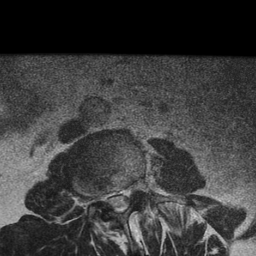CCS_stenosis: (114, 181, 122, 220)
LFS_normal: (130, 173, 138, 202)
LLS_normal: (122, 179, 130, 215)
RFS_normal: (97, 181, 106, 211)
RLS_normal: (106, 181, 115, 215)
